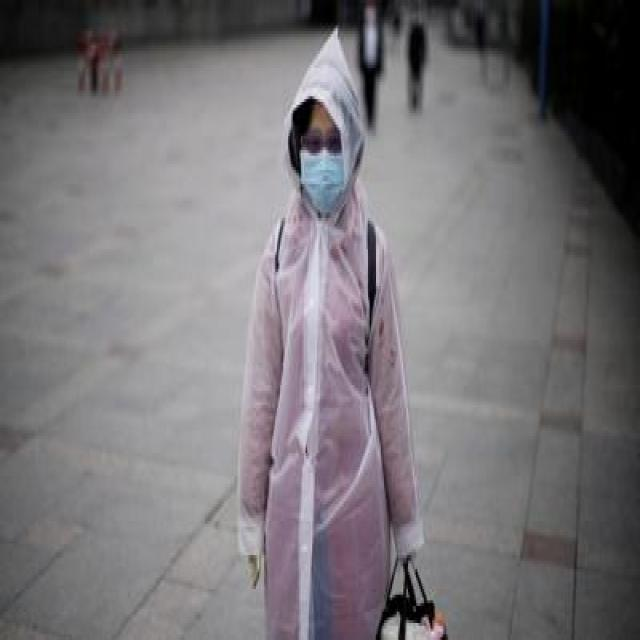with_mask: (297, 114, 347, 216)
